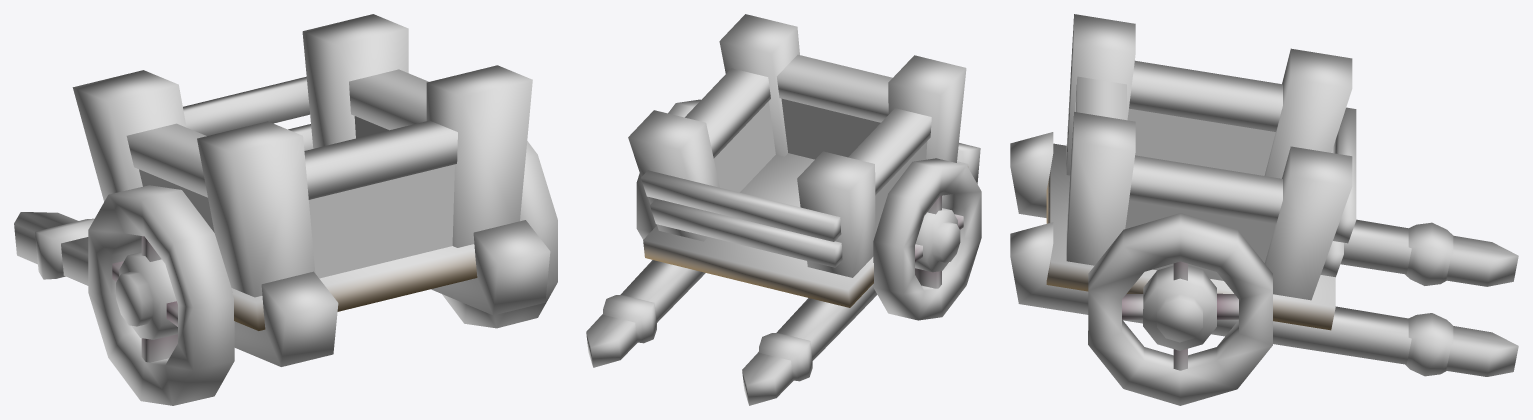
File: Props_C16.FBX
3 views of the same model, side by side, from view 1: azimuth 30°, elevation 25°; view 2: azimuth 150°, elevation 25°; view 3: azimuth 270°, elevation 25° (orthographic). The views are drawn at different scales.
Visible parts, largest first — view 1: Props_C16; view 2: Props_C16; view 3: Props_C16.
Boxes of the visible parts, x1,y1,x2,y2 form: Props_C16: (14,14,557,405); Props_C16: (586,14,981,405); Props_C16: (1010,14,1518,405).
Size of the model in its own units: 176 by 124 by 229.
